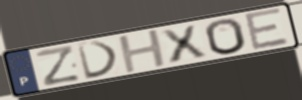D: (75, 39, 122, 81)
E: (242, 7, 292, 53)
H: (116, 27, 170, 75)
O: (203, 17, 249, 57)
X: (157, 23, 210, 65)
Z: (33, 44, 83, 89)
